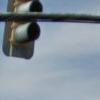Traffic light: (3, 0, 47, 65)
